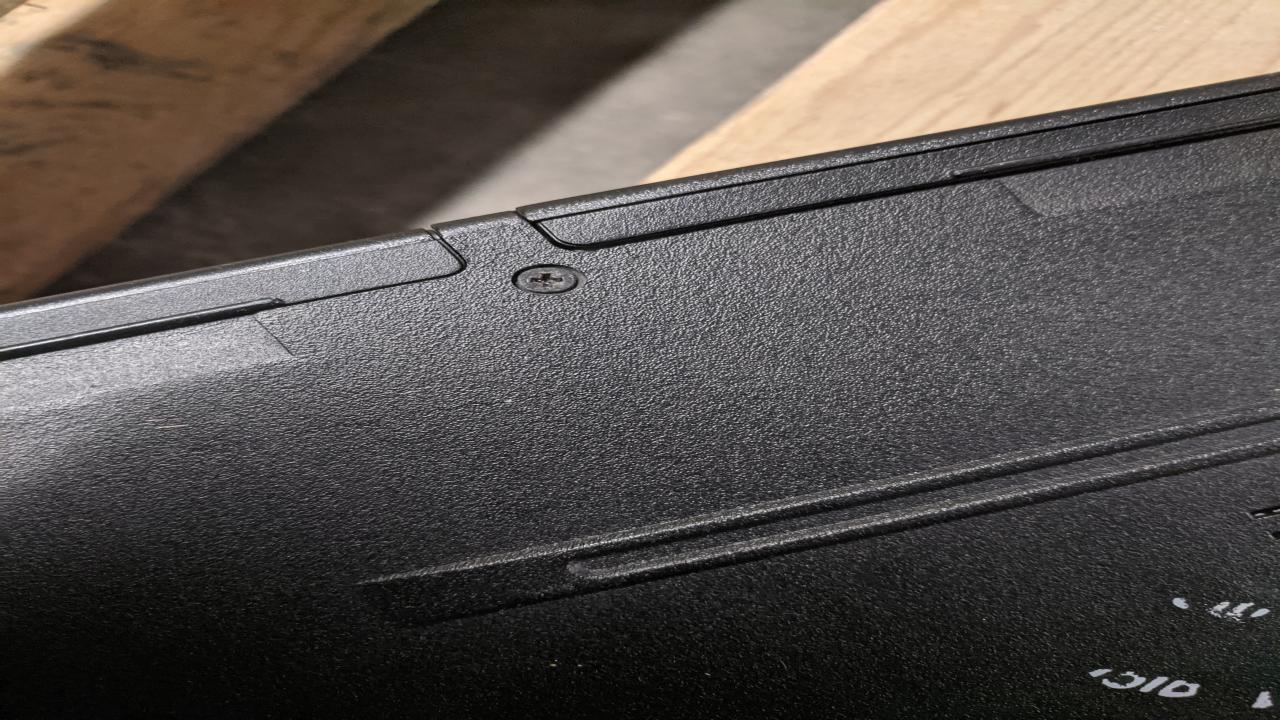CRS: (515, 264, 584, 296)
